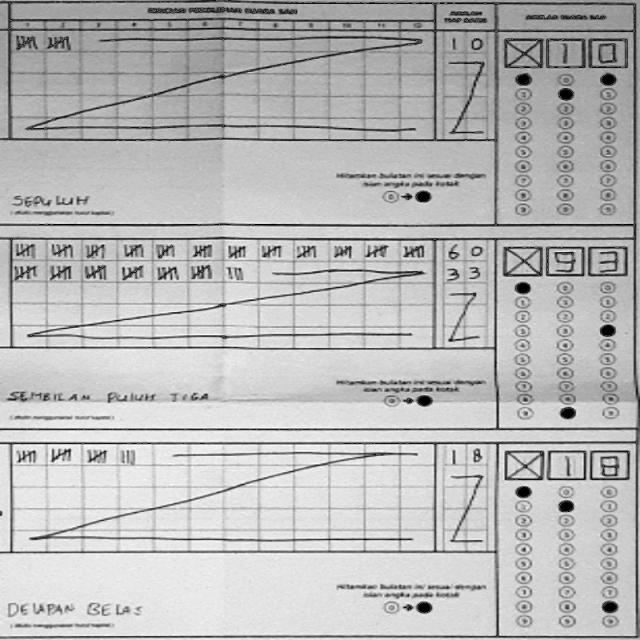Suara: (500, 441, 632, 484), (498, 240, 628, 282), (501, 31, 629, 70)
